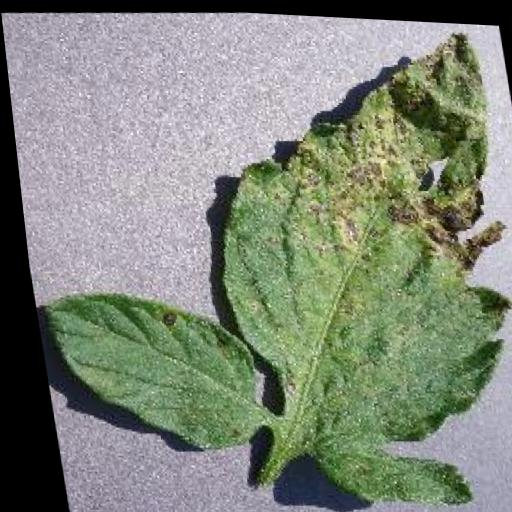Septoria: (0, 3, 512, 512)
